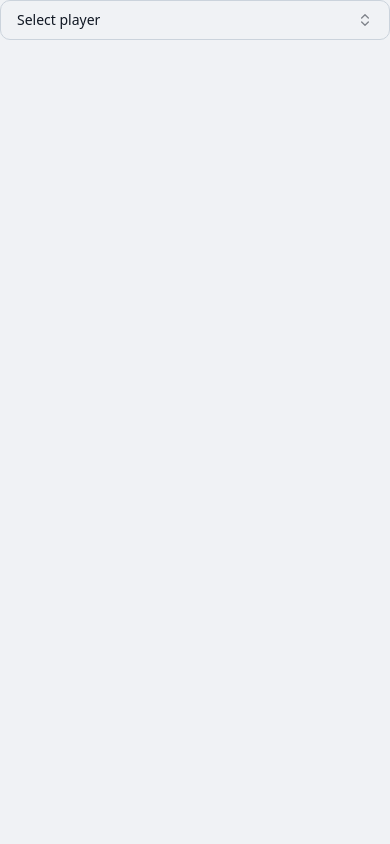
Test case: PlayerSelector › renders groups in order, each in the order given, under their own heading
Click the dropdown at point(59, 20), box [0,0,389,40]
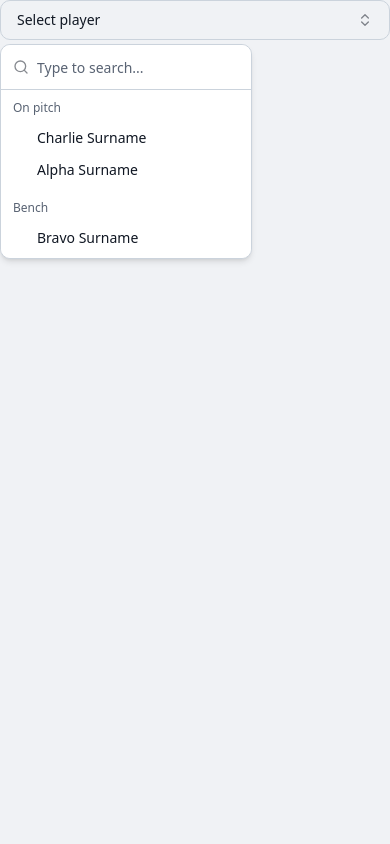
Now the text "On pitch" is shown, box [13,99,61,116]
Now the text "Bench" is shown, box [13,199,48,216]
